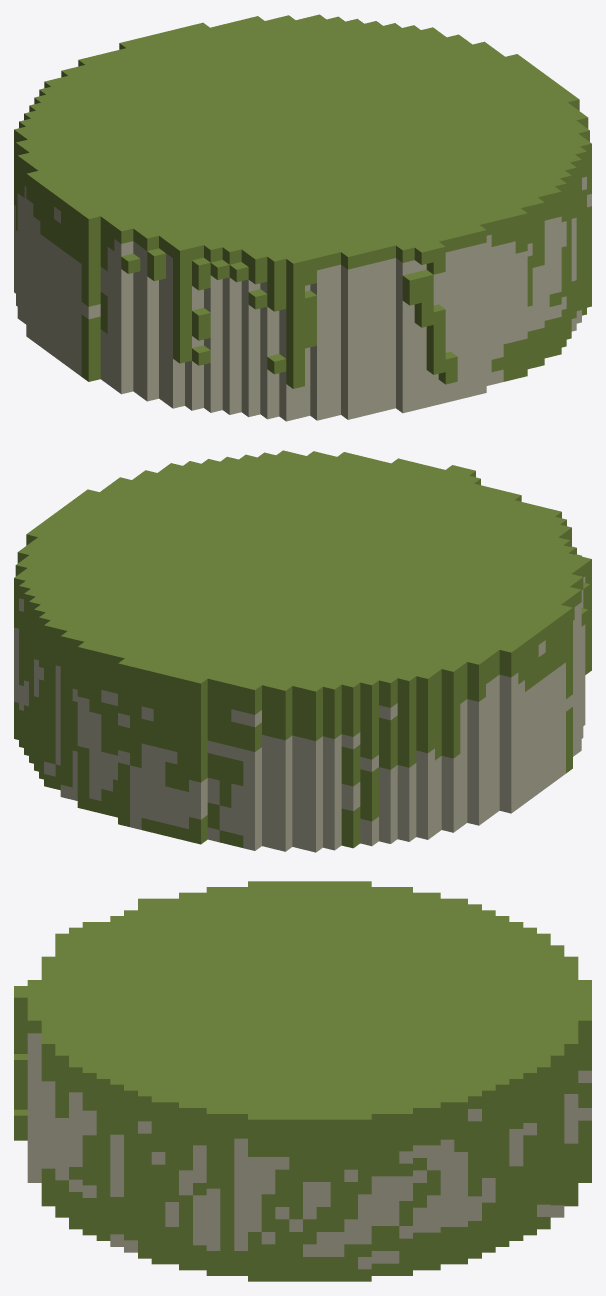
Rendered from forest1.2-4.obj.
3 renders of one model, top to bottom at view 1: azimuth 30°, elevation 25°; view 2: azimuth 150°, elevation 25°; view 3: azimuth 270°, elevation 25°, orthographic.
Bounding box in the file's own units: 4.1 × 1.3 × 4.2.
Materials: 1 (1 with a texture image).
